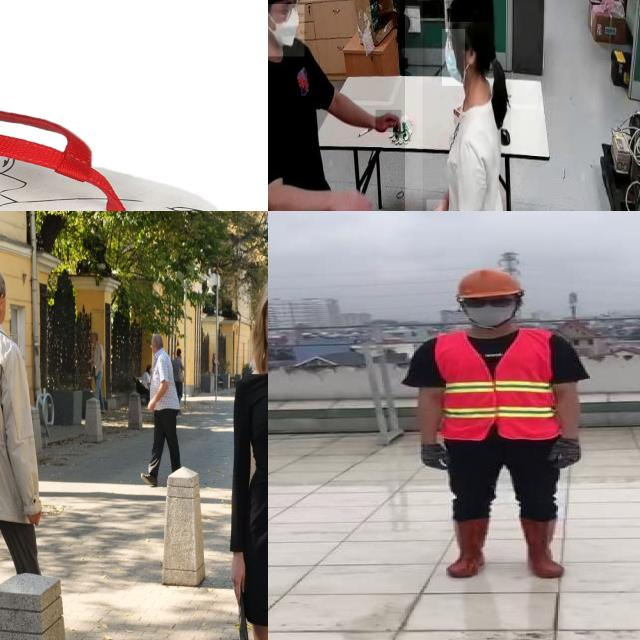Sandals: (0, 78, 226, 211)
boots: (517, 515, 569, 581), (446, 517, 492, 578)
face_mask: (268, 3, 304, 56), (442, 29, 465, 86)
hand_noglove: (330, 185, 375, 211), (376, 110, 402, 133), (426, 199, 447, 211)
head_helmet: (449, 267, 524, 299)
head_nohelmet: (446, 0, 493, 22)
person: (396, 264, 596, 586), (268, 0, 405, 211), (422, 0, 511, 211)
vest: (437, 327, 558, 440)
